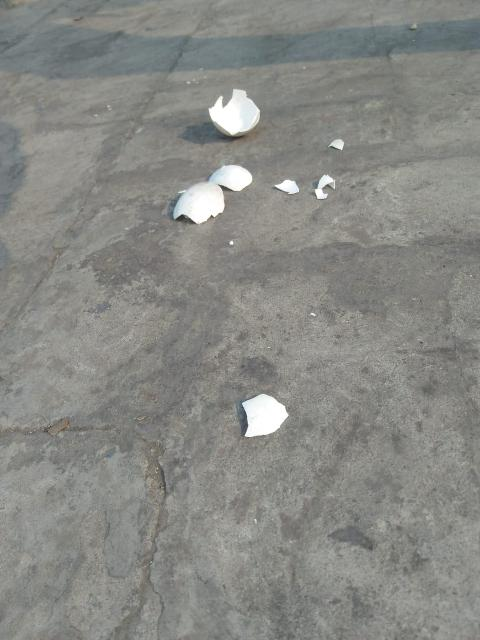Roto: (207, 88, 260, 138), (172, 180, 225, 224), (240, 392, 289, 437), (208, 164, 252, 192), (314, 174, 335, 199), (273, 179, 299, 194), (328, 138, 344, 150), (314, 187, 328, 199)
